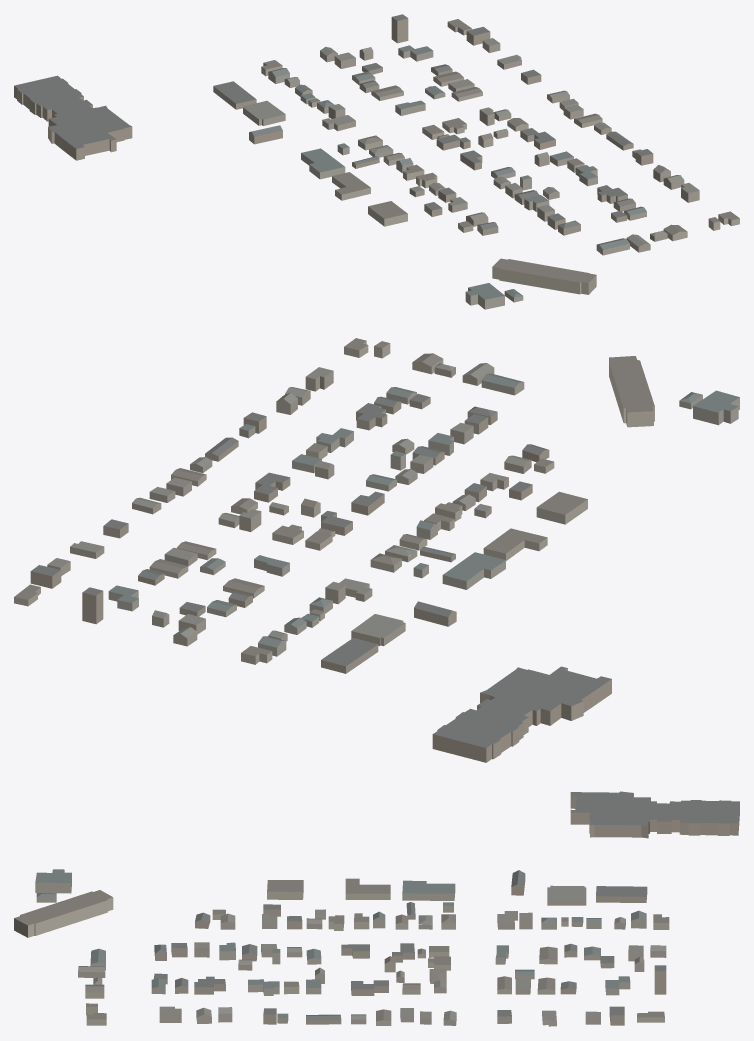
The model's file is 43784989b804-chunk-1205_11841.glb.
3 views of the same model, one above another, from view 1: azimuth 30°, elevation 25°; view 2: azimuth 150°, elevation 25°; view 3: azimuth 270°, elevation 25° (orthographic). The views are drawn at different scales.
Visible parts, largest first — view 1: building_158487, building_34071, building_19988, building_67967, building_149594, building_131110, building_27778, building_92089, building_78908; view 2: building_158487, building_34071, building_19988, building_67967, building_27778, building_149594, building_131110, building_92089, building_78908, building_71746, building_81397, building_112262; view 3: building_158487, building_34071, building_19988, building_27778, building_149594, building_67967, building_131110, building_92089, building_78908, building_112262, building_111698, building_135072.
Part boxes in pixels (x1,y1,x2,y2): building_158487: (14, 75, 132, 160); building_34071: (492, 258, 596, 294); building_19988: (301, 148, 345, 179); building_67967: (465, 283, 504, 309); building_149594: (332, 172, 370, 200); building_131110: (243, 100, 285, 125); building_27778: (213, 81, 256, 109); building_92089: (368, 201, 407, 226); building_78908: (520, 128, 555, 149); building_158487: (432, 666, 611, 762); building_34071: (609, 356, 654, 427); building_19988: (442, 552, 505, 589); building_67967: (693, 390, 739, 425); building_27778: (321, 638, 378, 673); building_149594: (483, 528, 547, 560); building_131110: (351, 614, 405, 646); building_92089: (536, 491, 587, 524); building_78908: (254, 472, 290, 502); building_71746: (82, 587, 103, 624); building_81397: (414, 601, 456, 626); building_112262: (356, 403, 387, 430); building_158487: (570, 791, 739, 838); building_34071: (14, 890, 113, 937); building_19988: (402, 880, 455, 900); building_27778: (596, 886, 647, 902); building_149594: (345, 878, 390, 899); building_67967: (35, 869, 71, 893); building_131110: (547, 885, 586, 905); building_92089: (267, 880, 303, 899); building_78908: (351, 980, 388, 995); building_112262: (194, 976, 225, 994); building_111698: (248, 979, 279, 995); building_135072: (341, 944, 369, 958).
Bounding box in the file's own units: 323 × 15.9 × 444.
